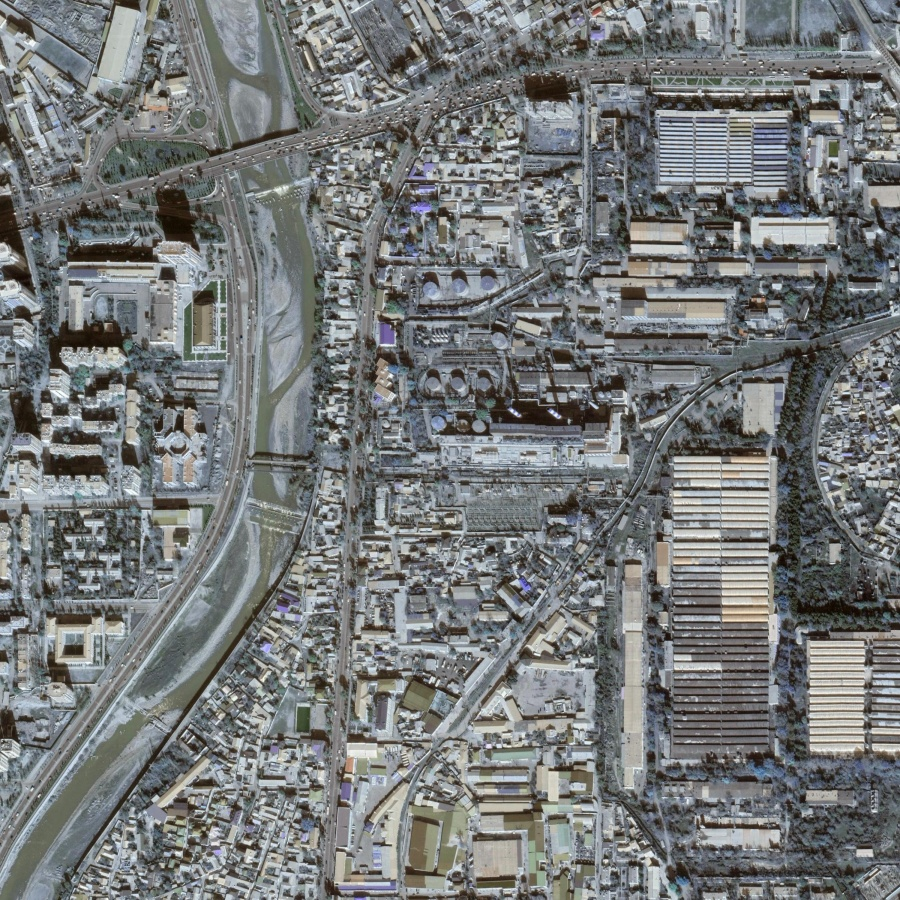PowerPlant: (413, 322, 634, 533)
